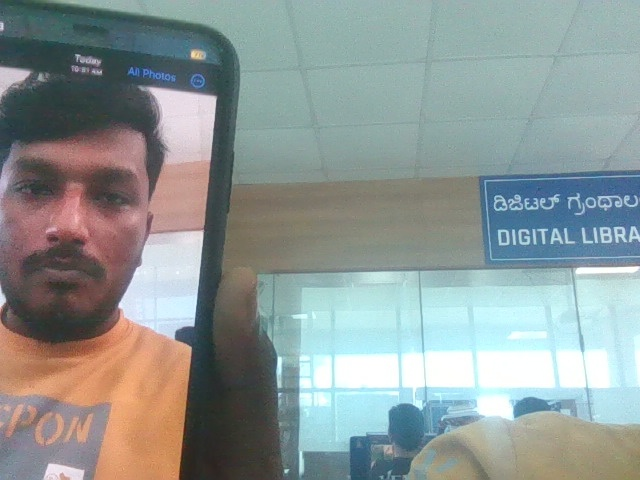fake: (0, 38, 218, 347)
